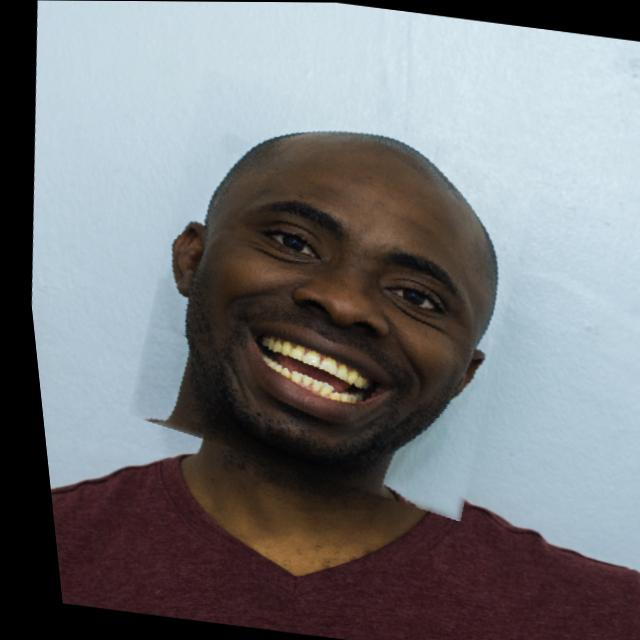happy: (101, 75, 551, 514)
